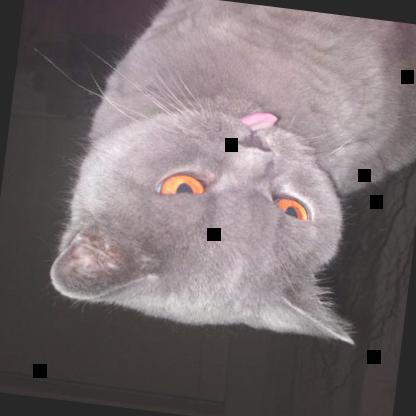cat: (43, 0, 415, 353)
